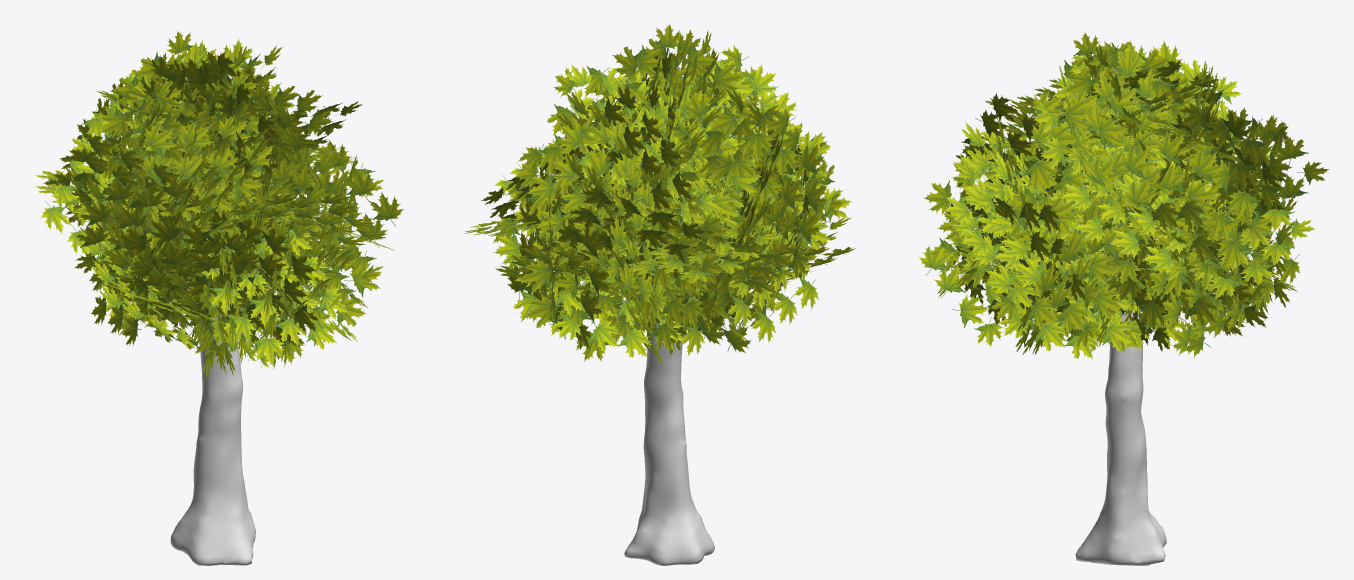
The model's file is Tree.fbx.
3 renders of one model, left to right at view 1: azimuth 30°, elevation 25°; view 2: azimuth 150°, elevation 25°; view 3: azimuth 270°, elevation 25°, orthographic.
Parts seen in each view (by area): view 1: leaves.019, Tree_lp; view 2: leaves.019, Tree_lp; view 3: leaves.019, Tree_lp.
Part boxes in pixels (x1,y1,x2,y2): leaves.019: (35,30,403,378); Tree_lp: (170,299,255,565); leaves.019: (464,23,855,364); Tree_lp: (624,322,714,565); leaves.019: (918,32,1329,359); Tree_lp: (1075,309,1166,565).
Size of the model in its own units: 3064 by 4730 by 3533.
